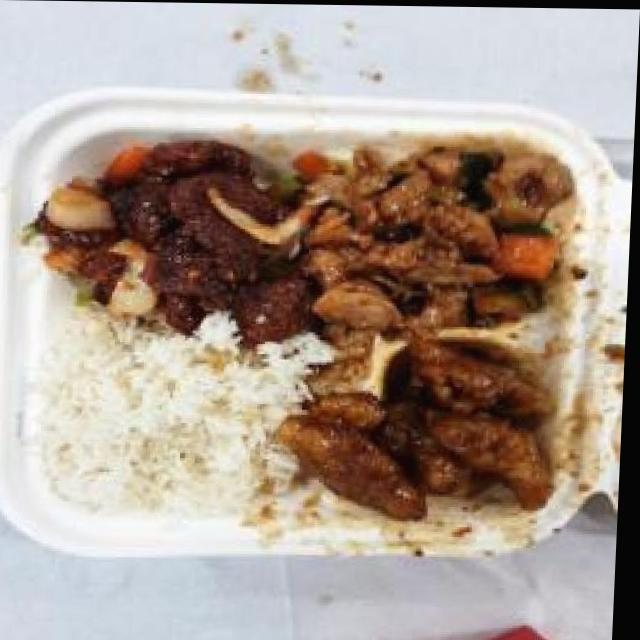Beijing Beef: (34, 126, 311, 324)
Kung Pao Chicken: (291, 132, 579, 345)
The Original Orange Chicken: (292, 339, 581, 530)
White Steamed Rice: (35, 321, 305, 522)
